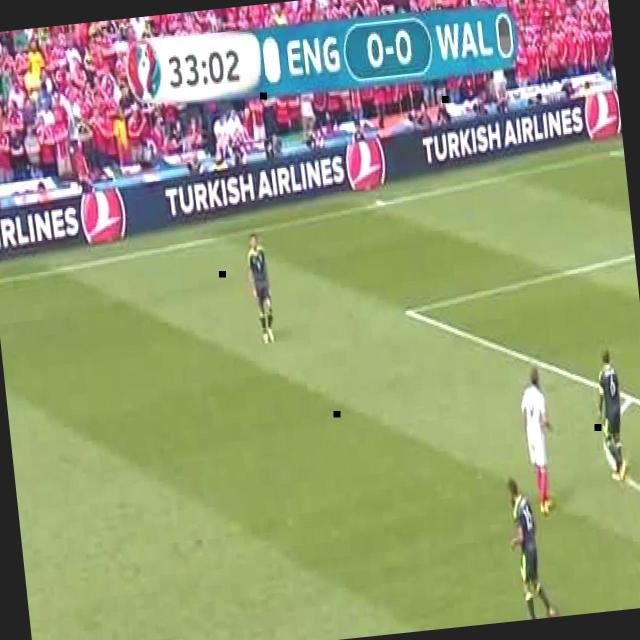player-white: (502, 475, 556, 621), (517, 365, 561, 517), (590, 350, 628, 482), (246, 232, 276, 344)
